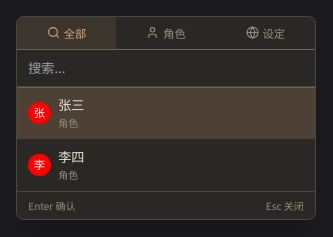
Test: MentionPanel › 输入关键词过滤角色 + 显示"未找到匹配项"
In the field with placeholder "搜索...": [166, 68] box x1=17 y1=50 x2=315 y2=87, type "王五"
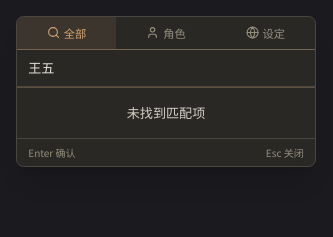
Result: the heading "未找到匹配项" is shown at x1=127 y1=102 x2=205 y2=123
Result: the button "张三" is gone
Result: the button "李四" is gone
